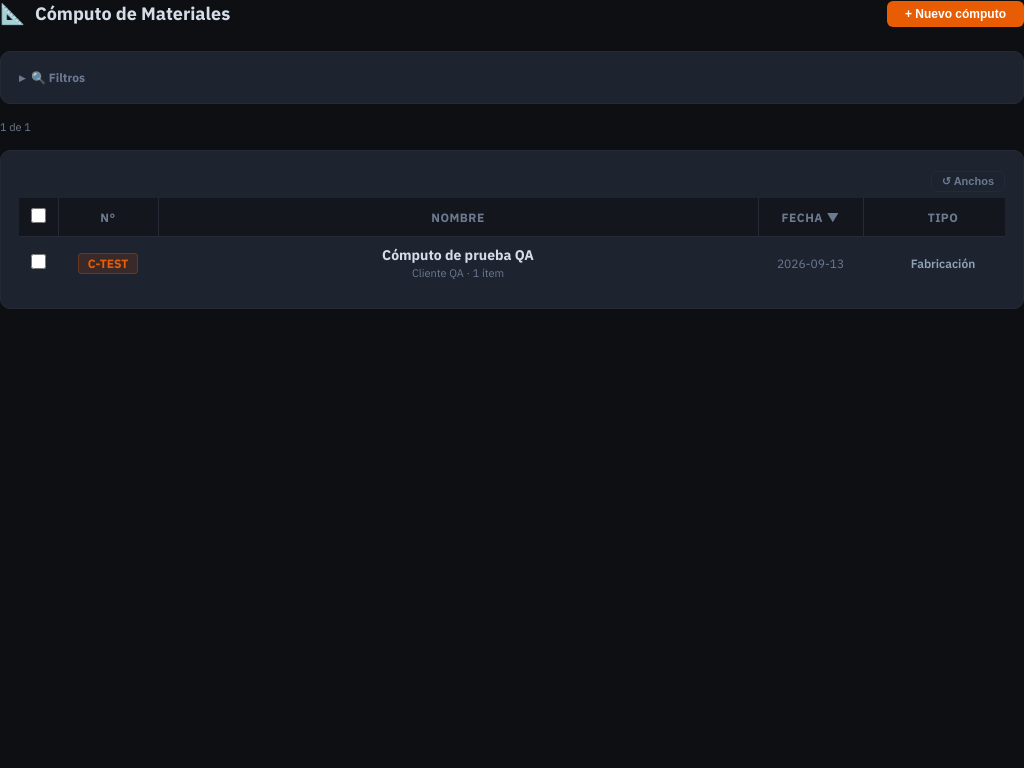
Test: agregar un ítem y editar otro en el mismo batch no pierde ninguno de los dos cambios
# Entrar al detalle del cómputo sembrado.
Click the text "Cómputo de prueba QA": (458, 255) x1=382 y1=246 x2=534 y2=264
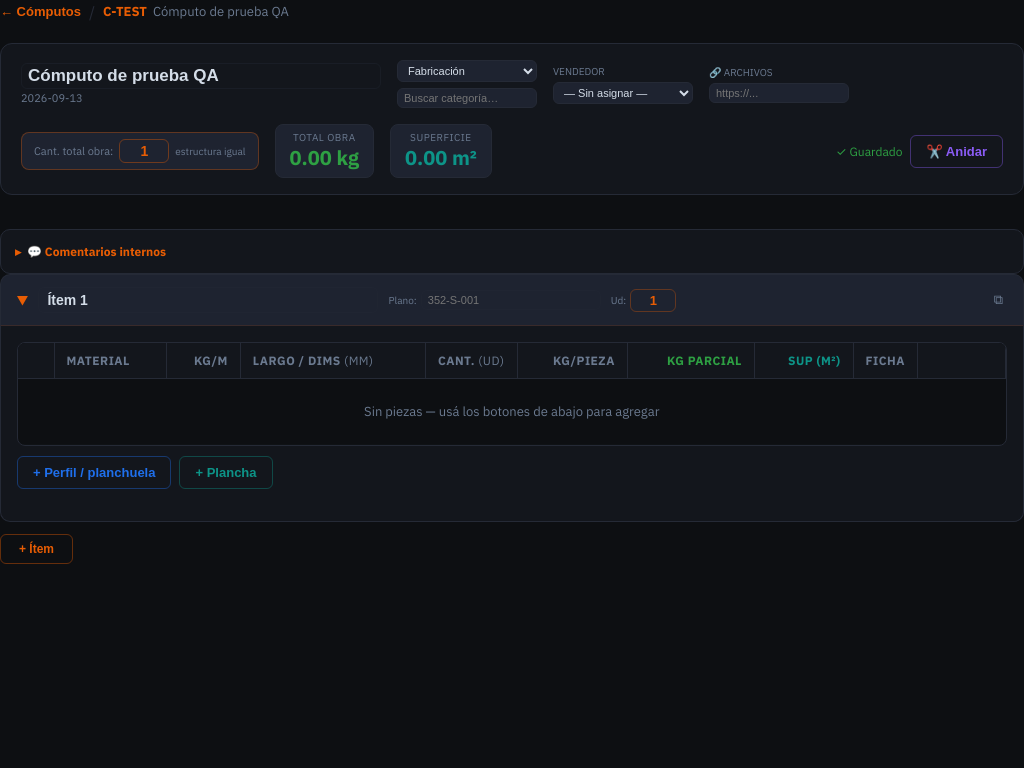
Replace the text in the field showing "Ítem 1" with "Ítem 1 editado": (208, 300) x1=38 y1=287 x2=378 y2=313
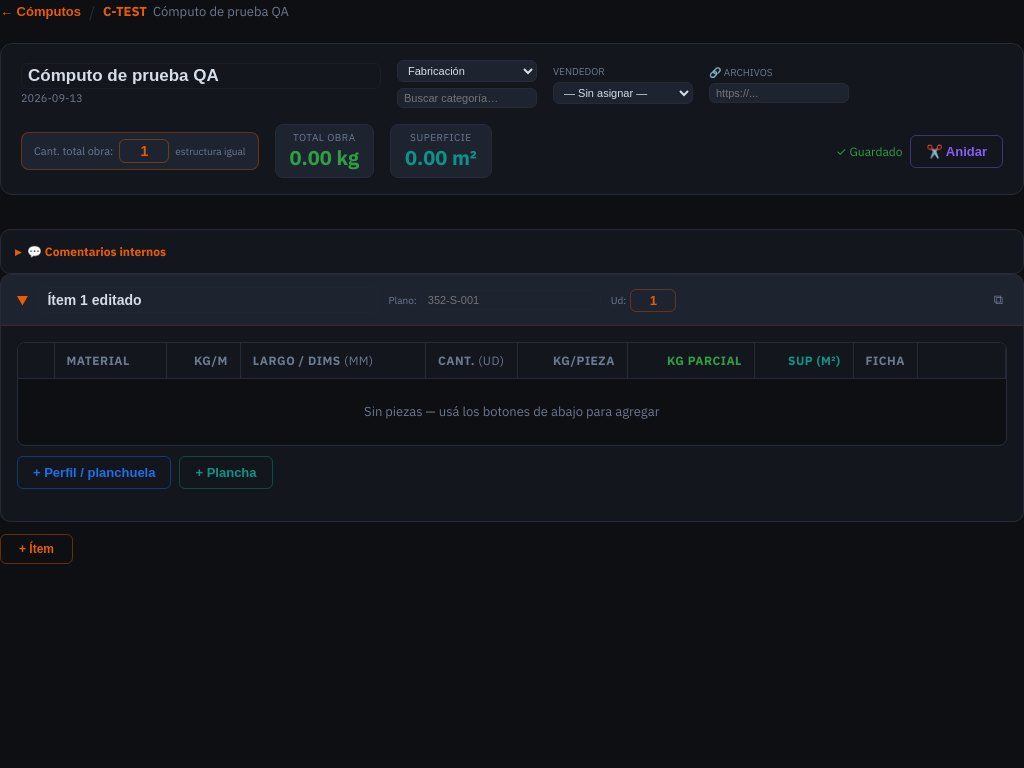
Click the button "+ Ítem": (36, 549) x1=0 y1=534 x2=73 y2=564
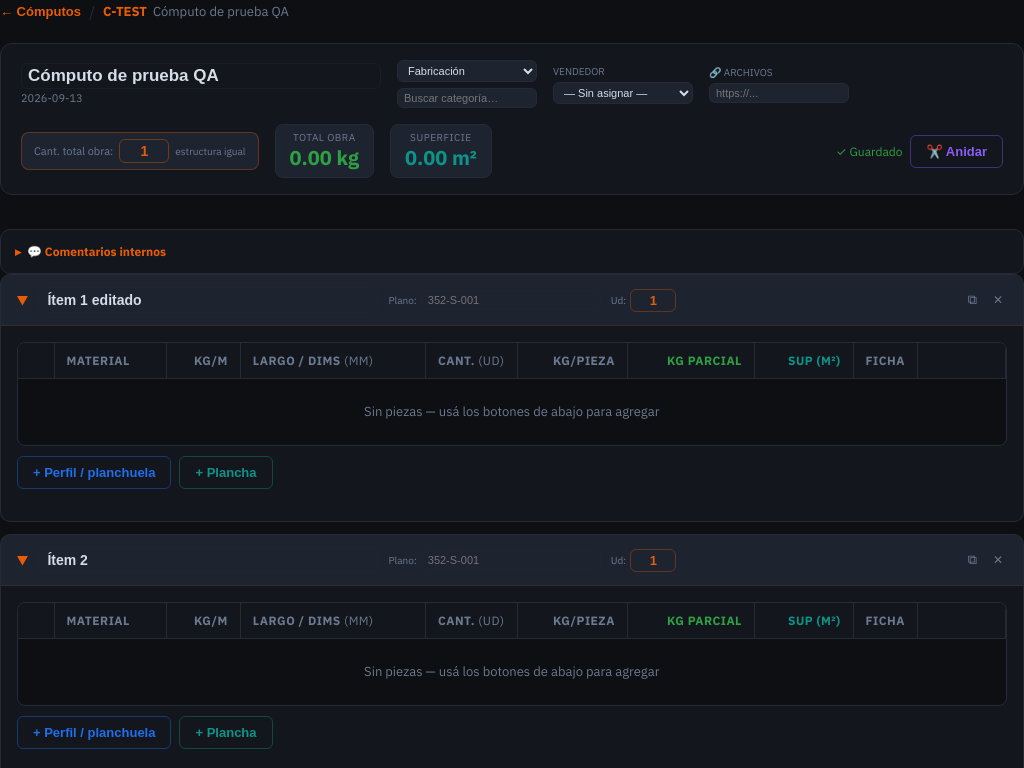
Now the number of fields with placeholder "Nombre del ítem" is 2, box x1=38 y1=287 x2=378 y2=313; x1=38 y1=547 x2=378 y2=573
